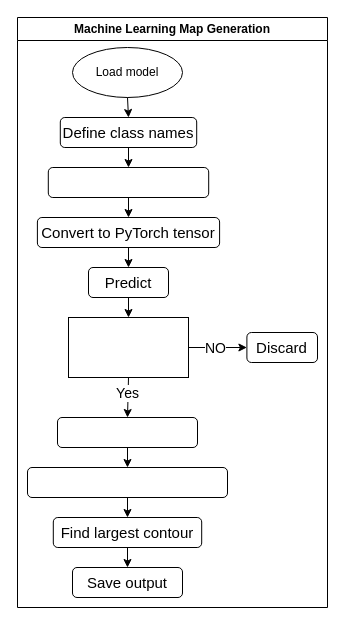
This 345x625 diagram has some shape labels left out. Each missing label, with the centre of its shape:
"Confidence > threshold" belongs at [128,347].
"convert image to RGB" belongs at [128,182].
"Convert mask" belongs at [127,432].
"Find contours with OpenCV" belongs at [127,482].
